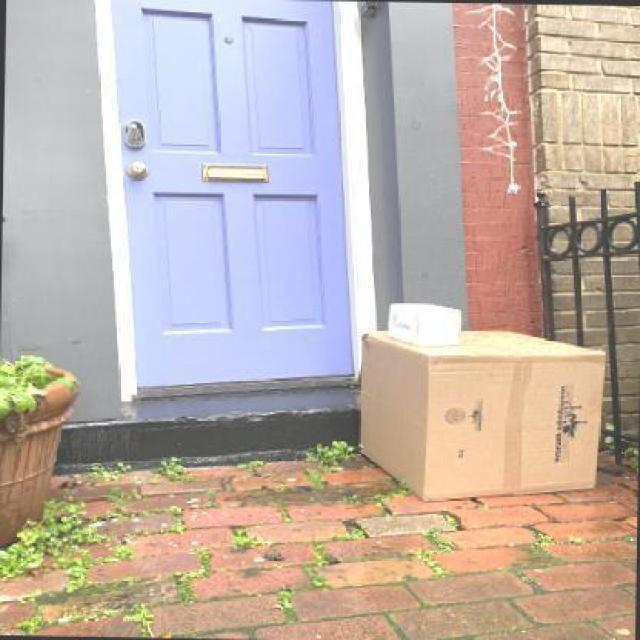box: (364, 329, 608, 496), (388, 298, 463, 349)
